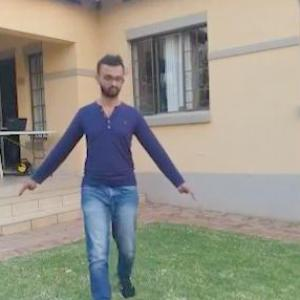land: (16, 47, 195, 299)
